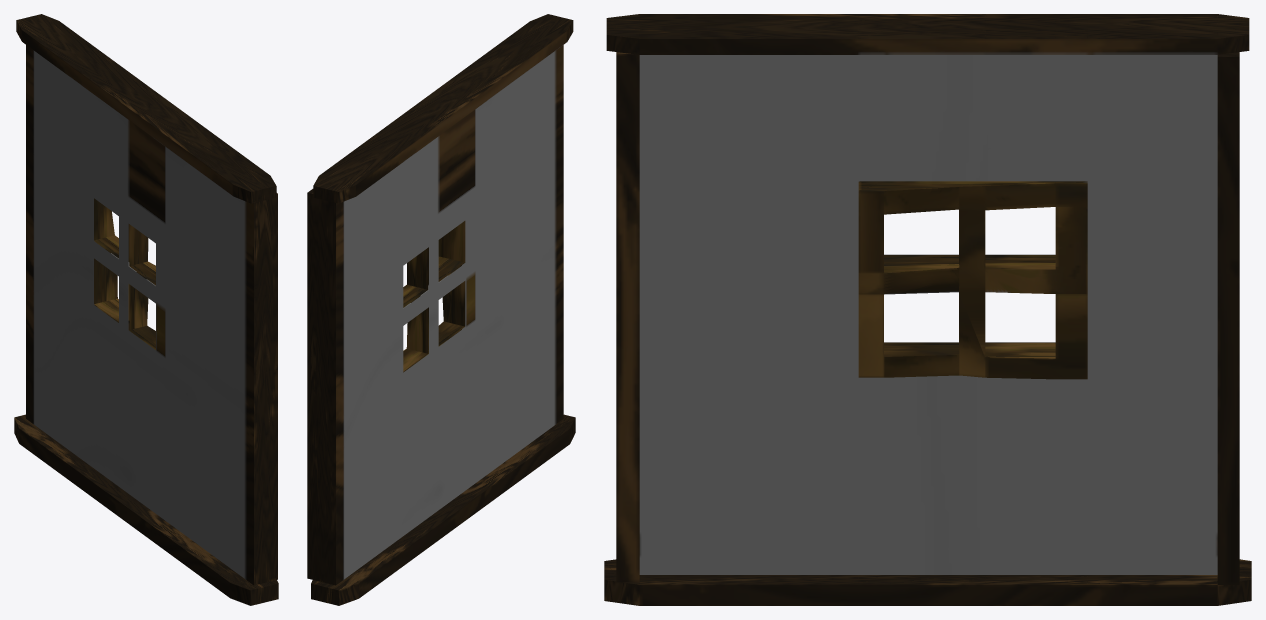
The model's file is windowtest.fbx.
3 renders of one model, left to right at view 1: azimuth 30°, elevation 25°; view 2: azimuth 150°, elevation 25°; view 3: azimuth 270°, elevation 25°, orthographic. The views are drawn at different scales.
Parts seen in each view (by area): view 1: pCube1; view 2: pCube1; view 3: pCube1.
Part boxes in pixels (x1,y1,x2,y2): pCube1: (14, 14, 278, 605); pCube1: (307, 14, 575, 605); pCube1: (604, 14, 1251, 605).
Bounding box in the file's own units: 33.03 × 300 × 311.
